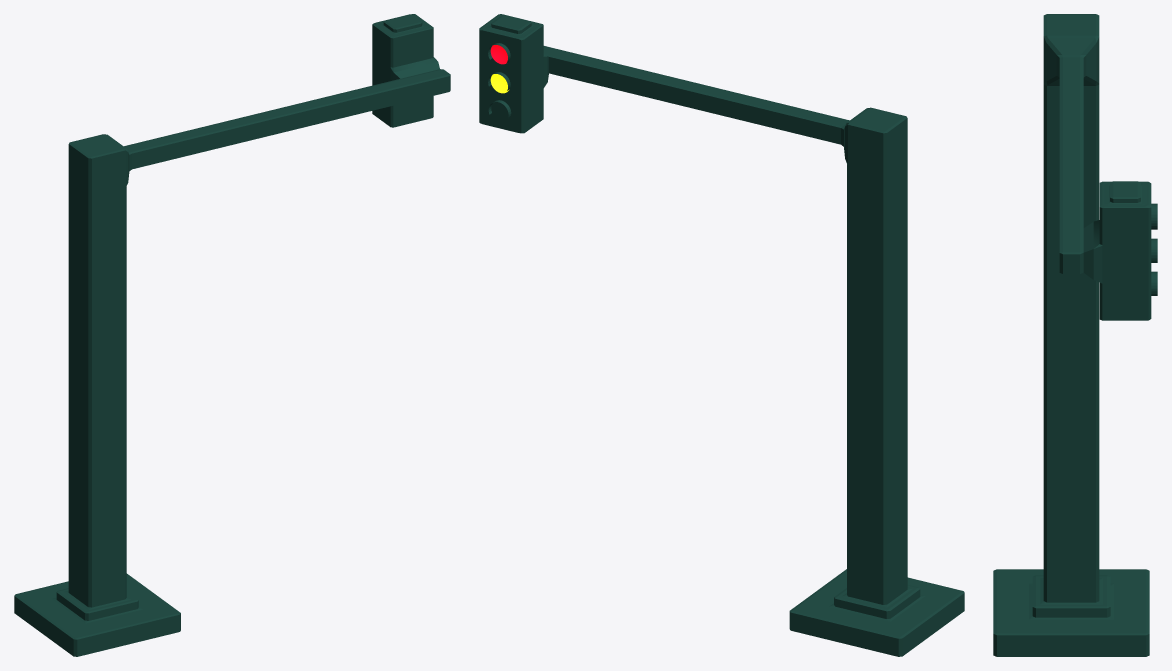
File: Semaphore 1.fbx
The picture shows the model from 3 angles, left to right: view 1: azimuth 30°, elevation 25°; view 2: azimuth 150°, elevation 25°; view 3: azimuth 270°, elevation 25°; orthographic projection. The views are drawn at different scales.
Parts seen in each view (by area): view 1: Cube; view 2: Cube; view 3: Cube.
Boxes of the visible parts, <box> form: Cube: <box>14,14,450,656</box>; Cube: <box>479,14,964,656</box>; Cube: <box>993,14,1157,656</box>.
Size of the model in its own units: 375 by 449 by 105.
